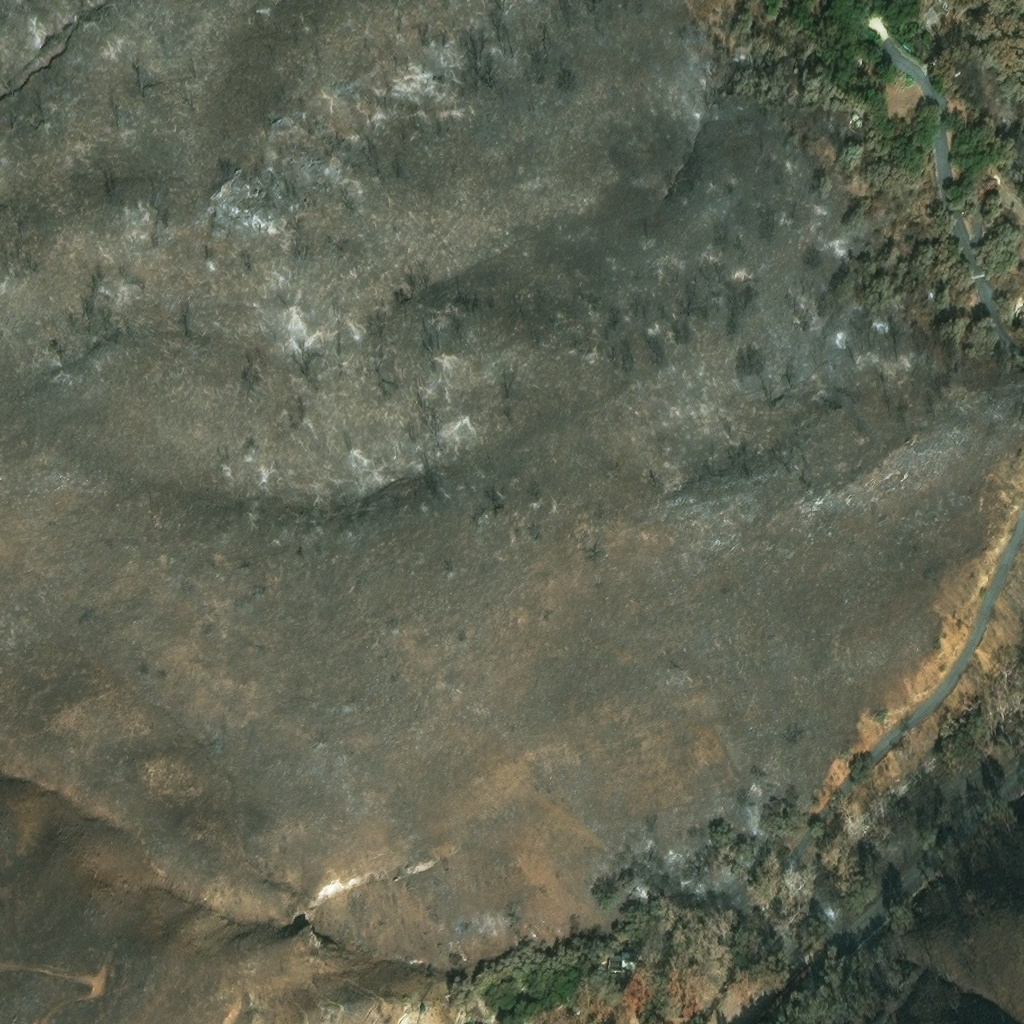3 destroyed: (591, 951, 635, 979)
4 un-classified: (861, 11, 890, 39), (890, 0, 902, 4)
